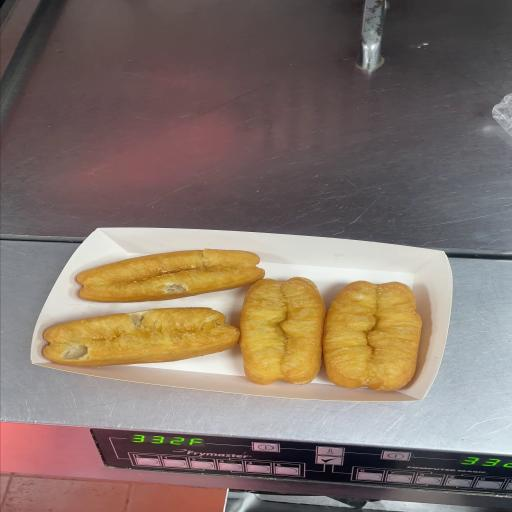brand_golden_defect: (43, 307, 239, 366), (76, 249, 265, 302)
brand_golden_good: (239, 277, 422, 392)
